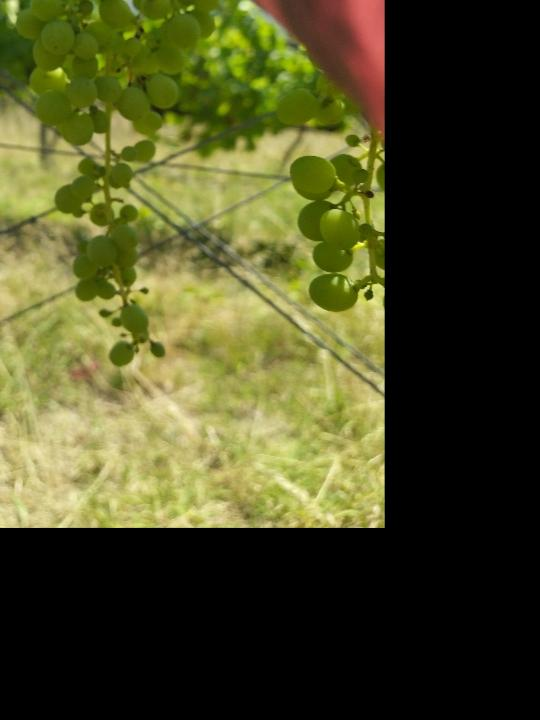grape: (0, 0, 228, 375)
